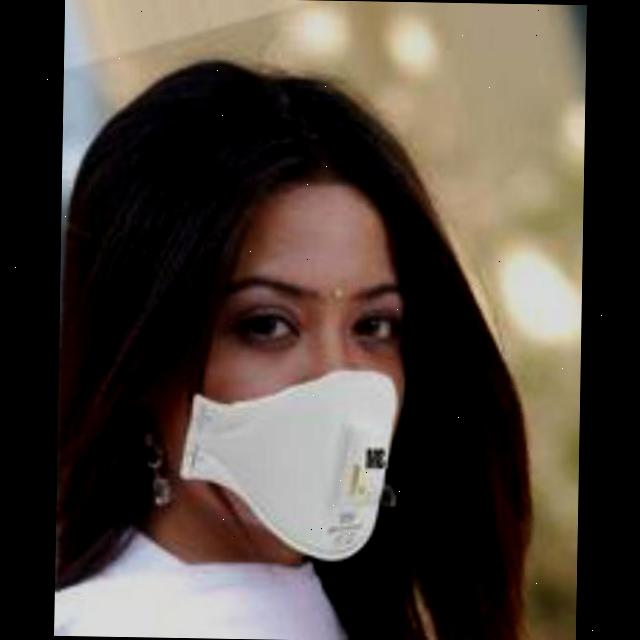suspicion: (118, 128, 474, 536)
